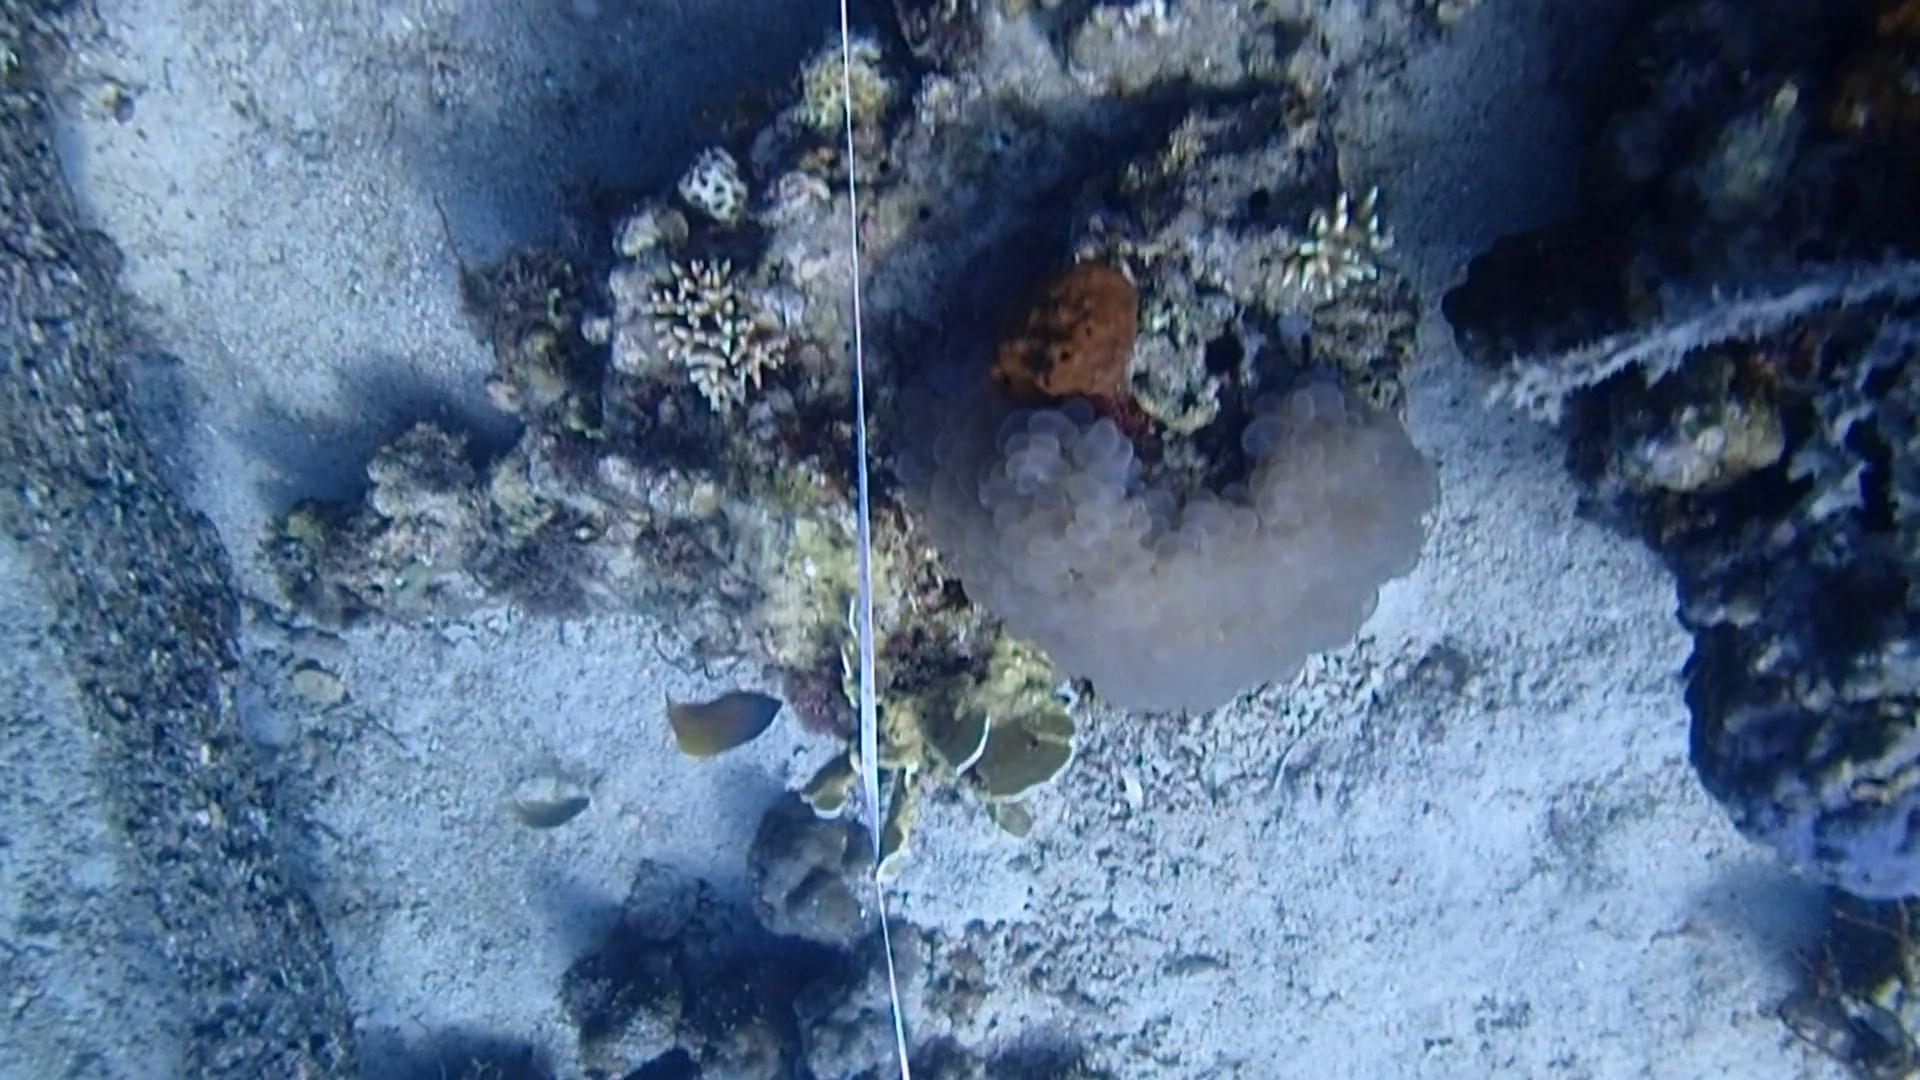Light Fish: (497, 789, 597, 844)
Yellow-Blue Fish: (657, 686, 795, 770)
